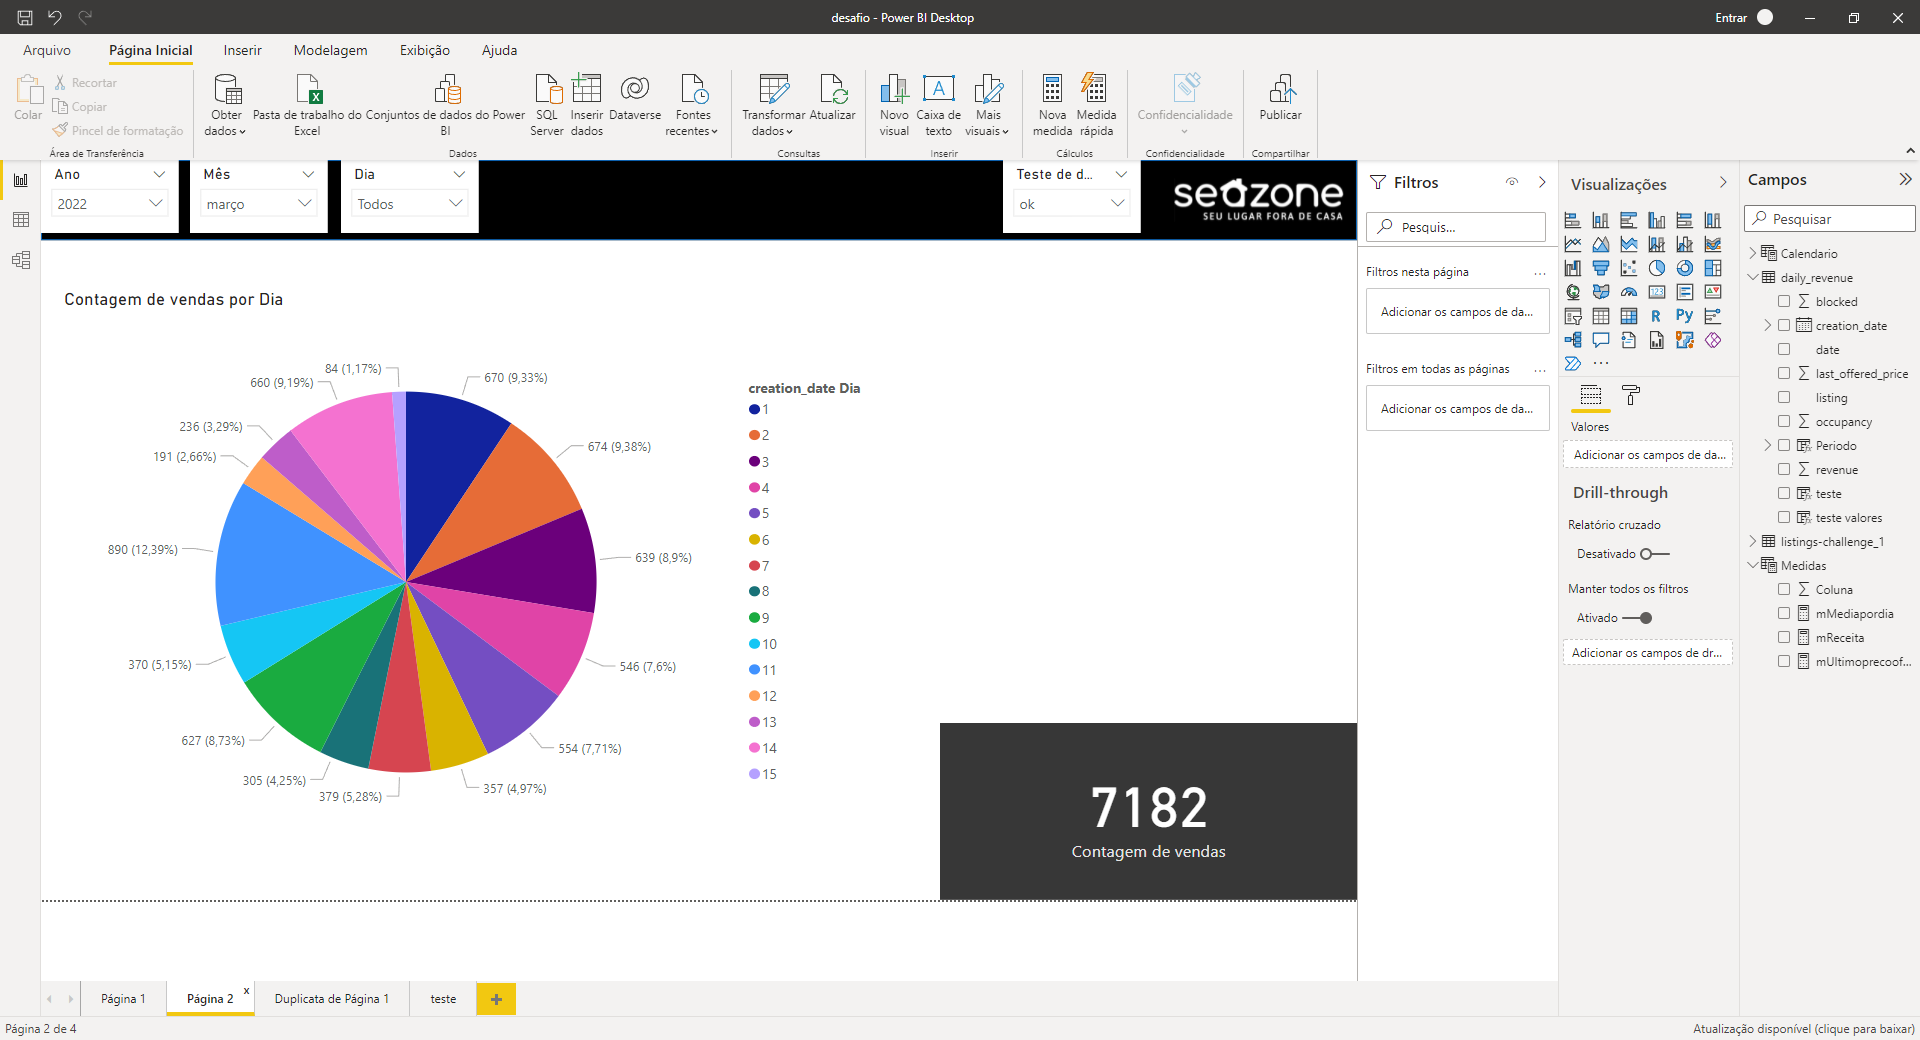

The dashboard page shown, as its layout file describes it:
{"tool":"powerbi","page":{"name":"Página 2","canvas":[1280,720],"ordinal":1},"visuals":[{"type":"pieChart","title":"Contagem de vendas por Dia","fields":{"Category":["daily_revenue.creation_date.Variation.Hierarquia de datas.Dia"],"Y":["CountNonNull(daily_revenue.last_offered_price)"]},"box":[17.5,125.5,800.5,551.5],"z":0},{"type":"shape","box":[0,0,1280,77.8],"z":1000},{"type":"slicer","fields":{"Values":["daily_revenue.creation_date.Variation.Hierarquia de datas.Ano"]},"box":[0,0,134.2,71],"z":2000},{"type":"image","box":[1097.1,0,175.1,77.8],"z":4000},{"type":"slicer","fields":{"Values":["daily_revenue.teste"]},"box":[935.7,0,134.2,71],"z":6000},{"type":"slicer","fields":{"Values":["daily_revenue.creation_date.Variation.Hierarquia de datas.Mês"]},"box":[144.9,0,134.2,71],"z":7000},{"type":"card","fields":{"Values":["CountNonNull(daily_revenue.last_offered_price)"]},"box":[874.4,547.6,405.6,172.2],"z":11000},{"type":"slicer","fields":{"Values":["daily_revenue.creation_date.Variation.Hierarquia de datas.Dia"]},"box":[291.8,0,134.2,71],"z":13000}]}

Visuals, with their boxes on the page's 1280x720 design canvas (x1, y1, x2, y2). These are canvas units, not pixel positions in the 1920x1040 screenshot, which may show the page scaled, cropped or inside an application window:
"Contagem de vendas por Dia" pieChart: bbox(18, 126, 818, 677)
shape: bbox(0, 0, 1280, 78)
slicer - daily_revenue.creation_date.Variation.Hierarquia de datas.Ano: bbox(0, 0, 134, 71)
image: bbox(1097, 0, 1272, 78)
slicer - daily_revenue.teste: bbox(936, 0, 1070, 71)
slicer - daily_revenue.creation_date.Variation.Hierarquia de datas.Mês: bbox(145, 0, 279, 71)
card - CountNonNull(daily_revenue.last_offered_price): bbox(874, 548, 1280, 720)
slicer - daily_revenue.creation_date.Variation.Hierarquia de datas.Dia: bbox(292, 0, 426, 71)
